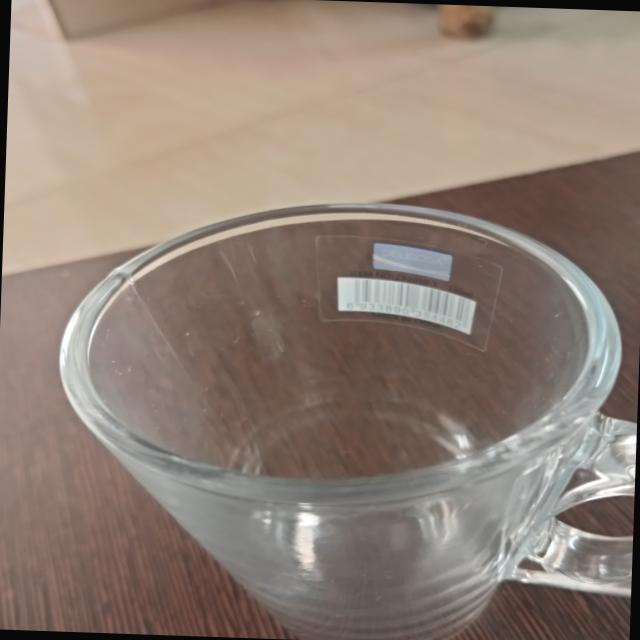glass-VX4N: (50, 193, 640, 640)
